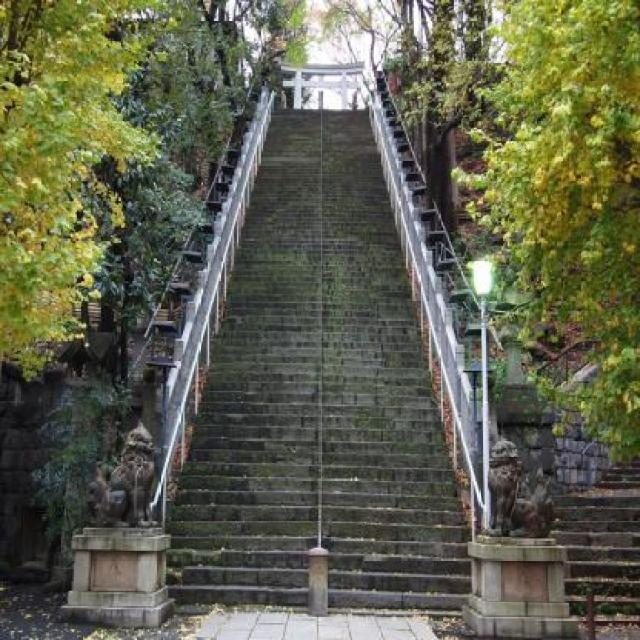stair: (157, 104, 474, 618), (547, 449, 640, 623)
